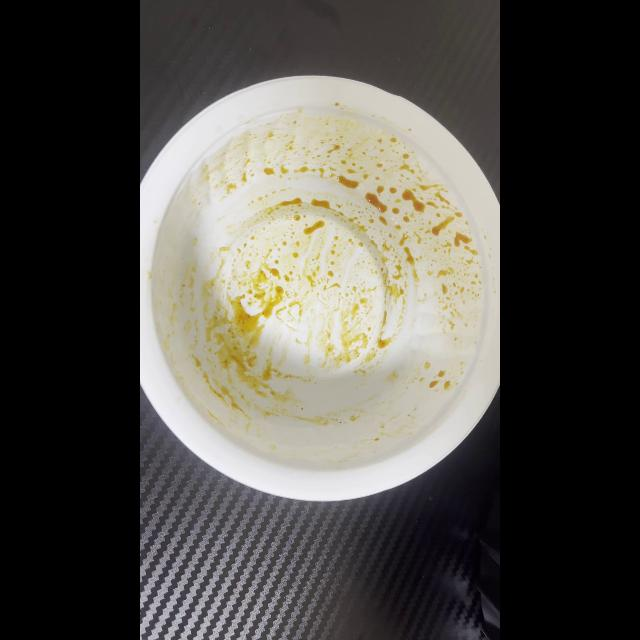dirty: (140, 76, 496, 494)
